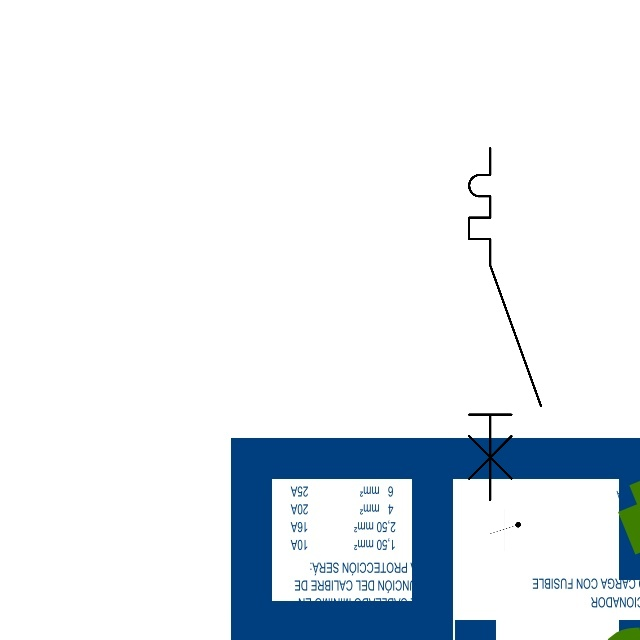interruptor_termomagnetico: (460, 139, 550, 509)
